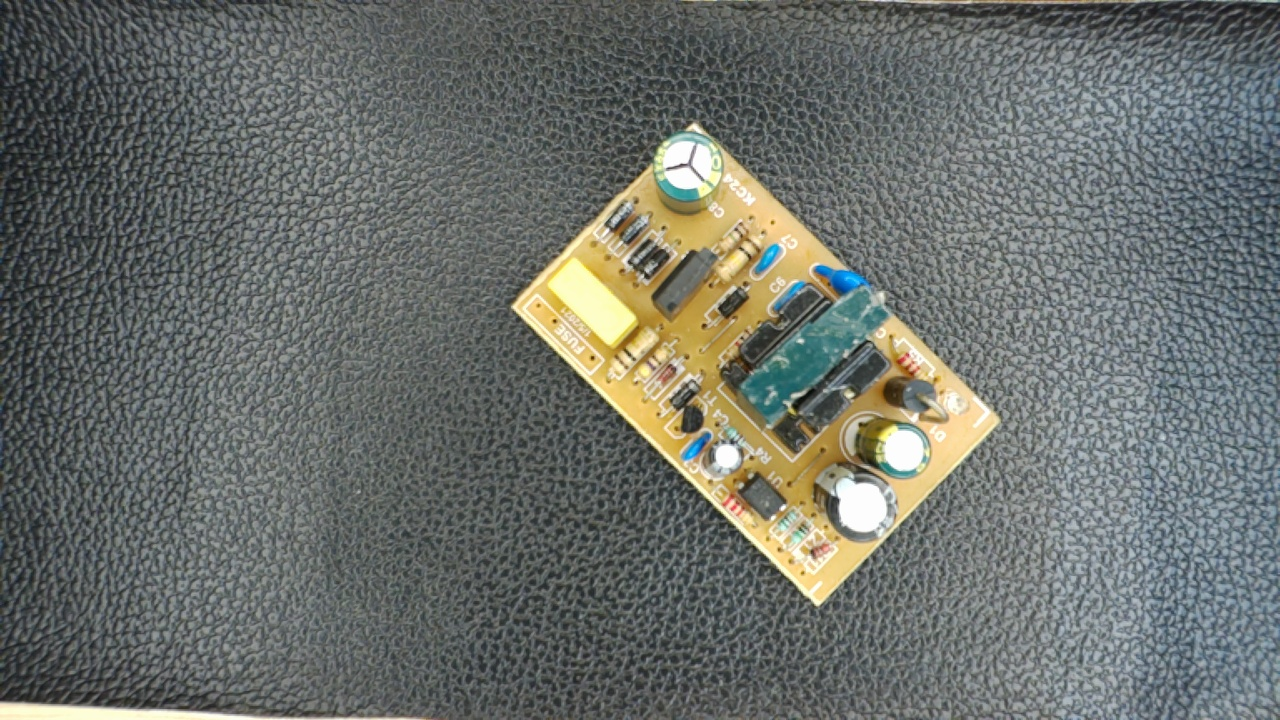hv_capacitor: (650, 132, 725, 219)
mov: (812, 260, 876, 299)
optocoupler: (732, 468, 789, 521)
